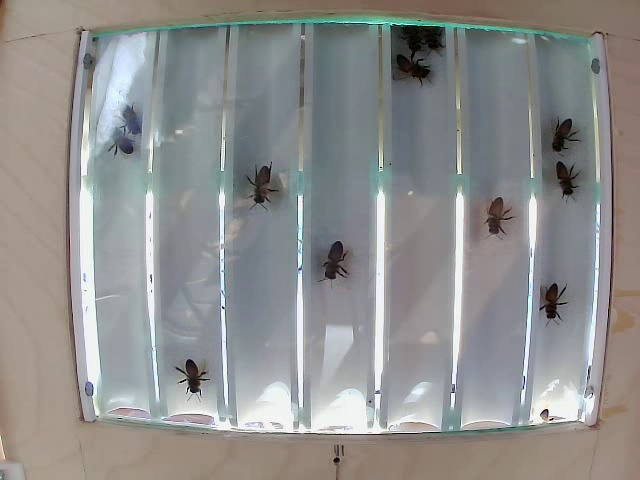bee: (324, 229, 356, 289), (545, 168, 581, 213), (543, 267, 570, 325), (486, 195, 518, 242), (252, 164, 284, 208), (403, 47, 432, 85), (167, 367, 205, 394), (109, 135, 139, 169), (554, 111, 576, 152)
